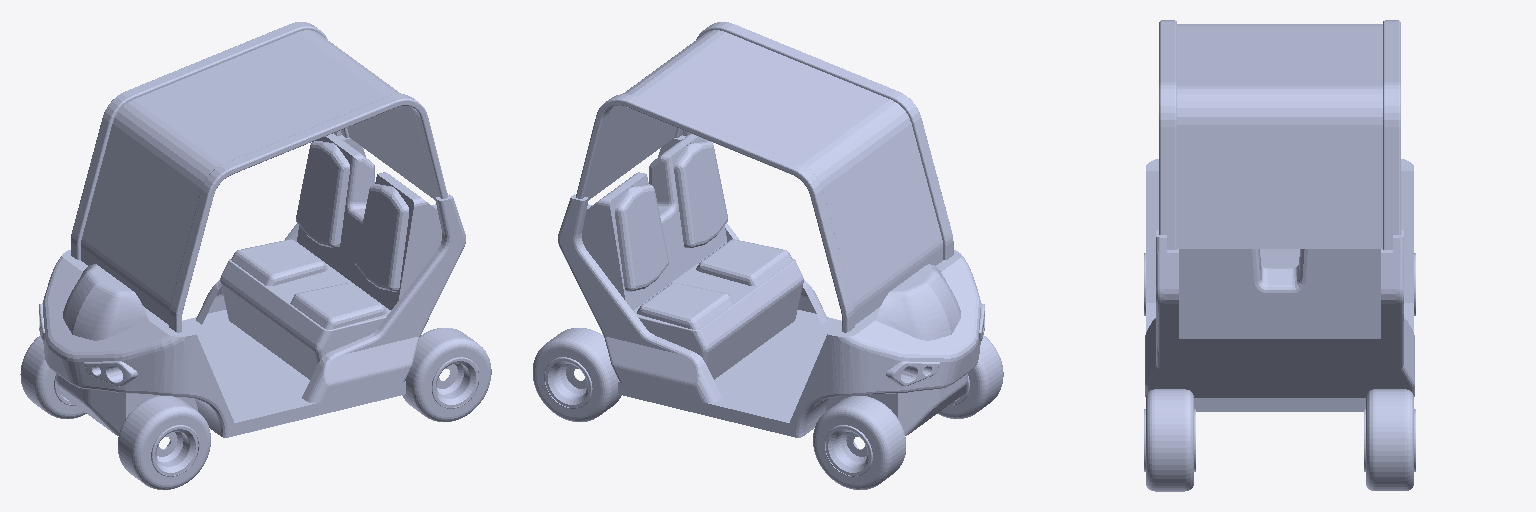
URDF robot description (cart):
<robot
  name="cart">
  <link
    name="cart">
    <inertial>
      <origin
        xyz="-0.089108 -0.000832489999999997 0.044027"
        rpy="0 0 0" />
      <mass
        value="862.14" />
      <inertia
        ixx="188.71687699696"
        ixy="-0.369699034933359"
        ixz="28.3361347428111"
        iyy="453.959445275961"
        iyz="0.794251385143031"
        izz="475.451079771974" />
    </inertial>
    <visual>
      <origin
        xyz="0 0 0"
        rpy="1.5707963267949 0 0" />
      <geometry>
        <mesh
          filename="package://cart_core/meshes/cart.STL" />
      </geometry>
      <material
        name="">
        <color
          rgba="0.79216 0.81961 0.93333 1" />
      </material>
    </visual>
    <collision>
      <origin
        xyz="0 0 0"
        rpy="1.5707963267949 0 0" />
      <geometry>
        <mesh
          filename="package://cart_core/meshes/cart.STL" />
      </geometry>
    </collision>
  </link>
</robot>

--- Facts derived from the render (not from the file) ---
3 views of the same robot in one strip: view 1: azimuth 30°, elevation 25°; view 2: azimuth 150°, elevation 25°; view 3: azimuth 270°, elevation 25° (orthographic).
Robot: cart — 1 links, 0 joints (none); root link cart; default pose: every joint at zero.
Links seen in each view (by area): view 1: cart; view 2: cart; view 3: cart.
Link boxes in pixels (x1=…): cart: x1=20, y1=22, x2=491, y2=489; cart: x1=533, y1=22, x2=1003, y2=489; cart: x1=1144, y1=20, x2=1415, y2=491.
Size in the robot's own frame: 2.21 by 1.22 by 1.85 metres.
1 mesh visuals loaded from 1 distinct referenced files (1 binary STL).